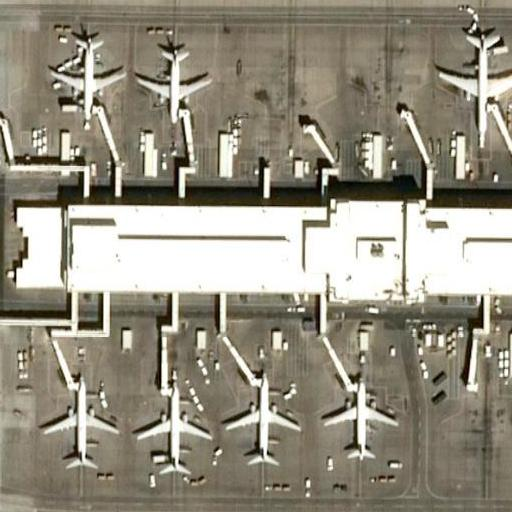Aircraft: (432, 23, 512, 141), (32, 376, 120, 475), (218, 377, 303, 471), (316, 376, 401, 468), (132, 39, 214, 130), (47, 30, 124, 125), (133, 384, 208, 476)
